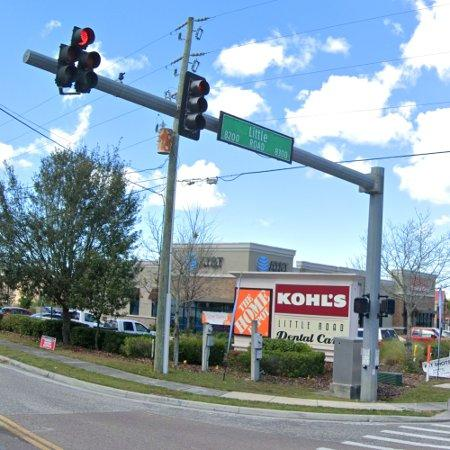traffic lights: (179, 71, 210, 140)
